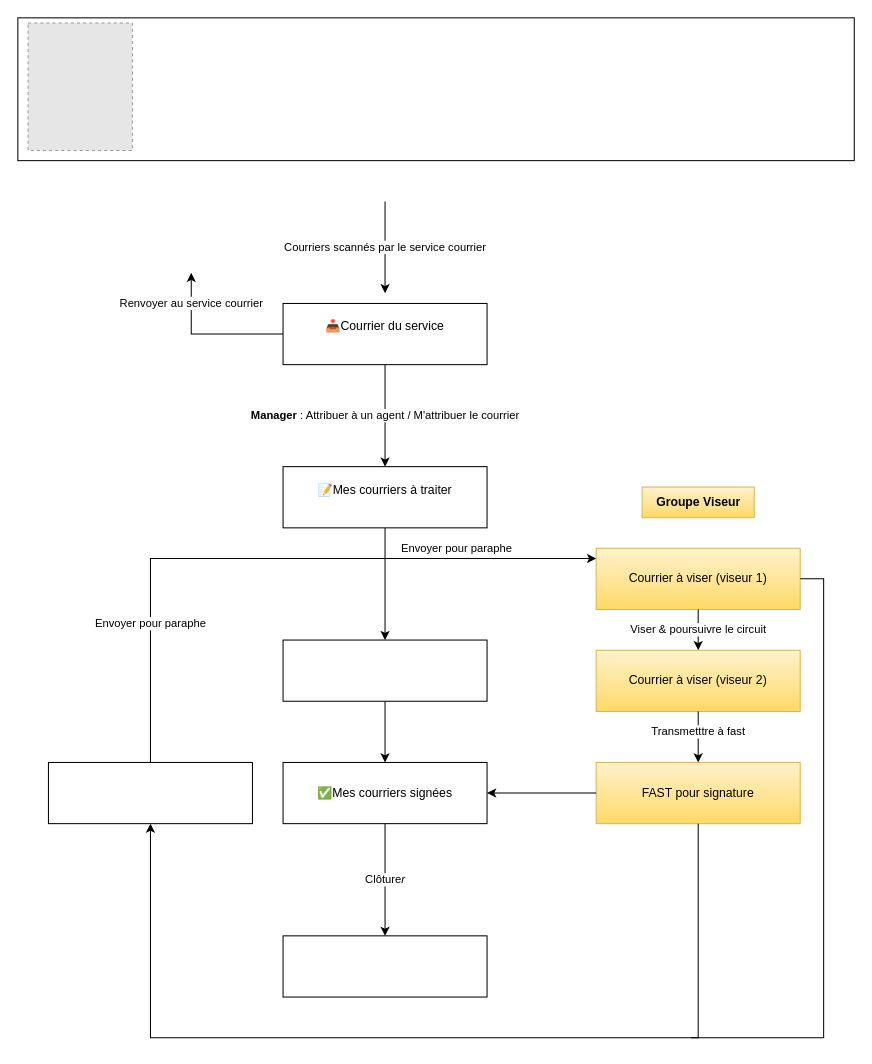
The diagram is 872 pixels wide and 1064 high, and some of its shapes have lost their labels. Grey dashed boxes stand in for pictures. The box of each missing label's shape, as (x1, y1, x2, y2) in pixels:
Workflow Non collaboratif des courriers: (17, 17, 854, 161)
❌Mes courriers parapheur rejetées: (47, 761, 252, 824)
🔚Courriers Clôturés: (282, 935, 487, 997)
🖋 Mes courriers en cours de signature: (282, 639, 487, 701)
